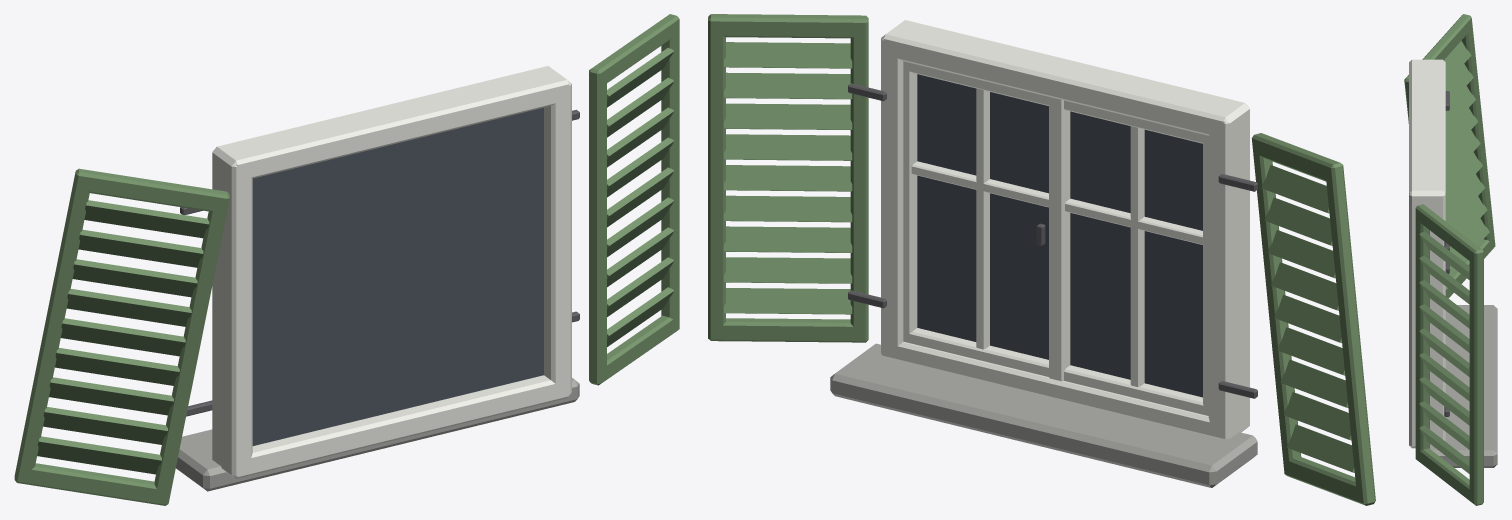
The model's file is v_window.glb.
3 views of the same model, side by side, from view 1: azimuth 30°, elevation 25°; view 2: azimuth 150°, elevation 25°; view 3: azimuth 270°, elevation 25° (orthographic). The views are drawn at different scales.
Parts seen in each view (by area): view 1: Okno; view 2: Okno; view 3: Okno.
Boxes of the visible parts, box(x1,y1,x2,y2) form: Okno: box(14, 14, 679, 505); Okno: box(708, 14, 1375, 505); Okno: box(1404, 14, 1497, 505).
Size of the model in its own units: 2.18 by 1.08 by 0.3321.
